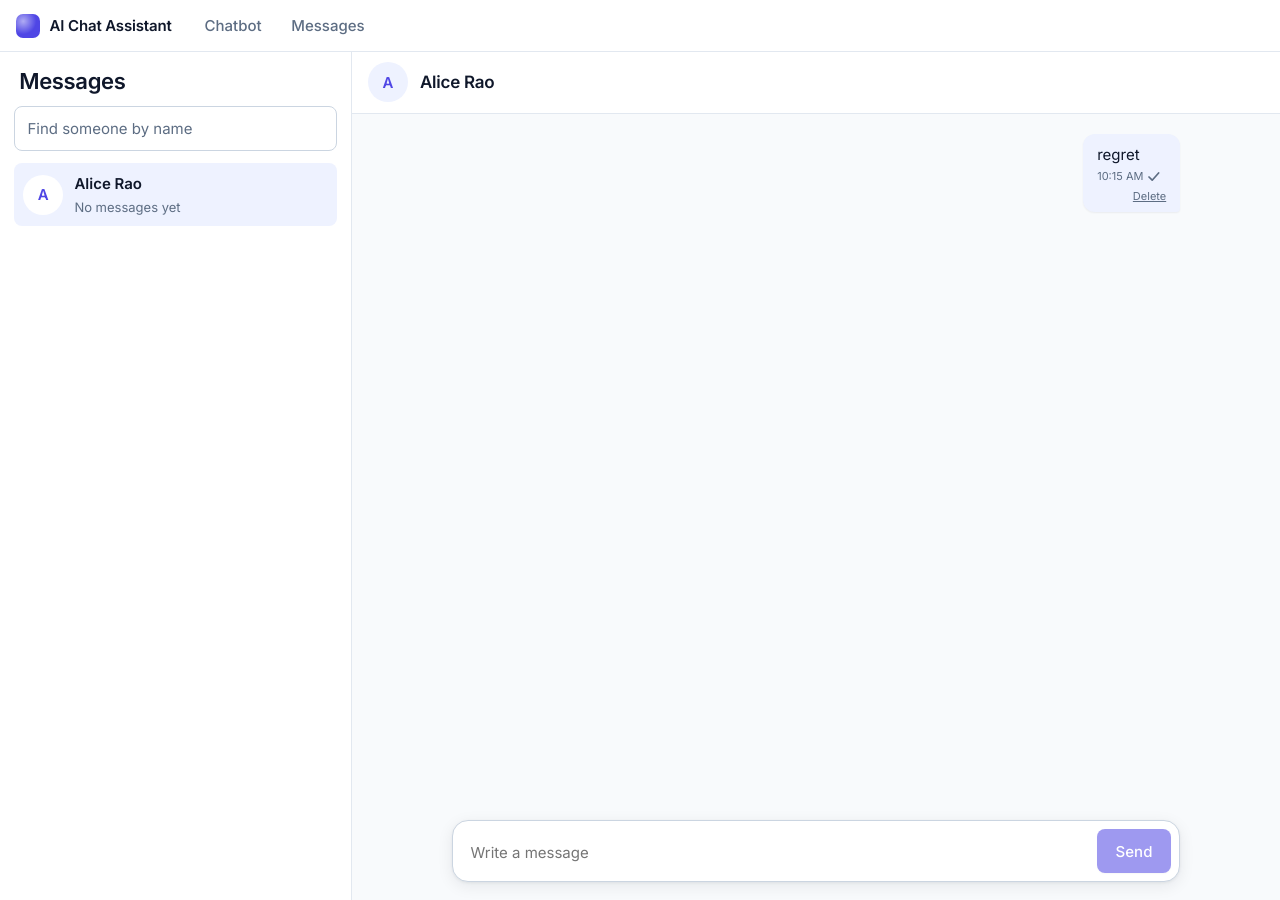
Test: MessagesComponent › confirming deletes the message and shows the placeholder with no text, no ticks and no Delete
Click the button with class "delete": (1150, 196) top-left (1133, 188), bottom-right (1166, 205)
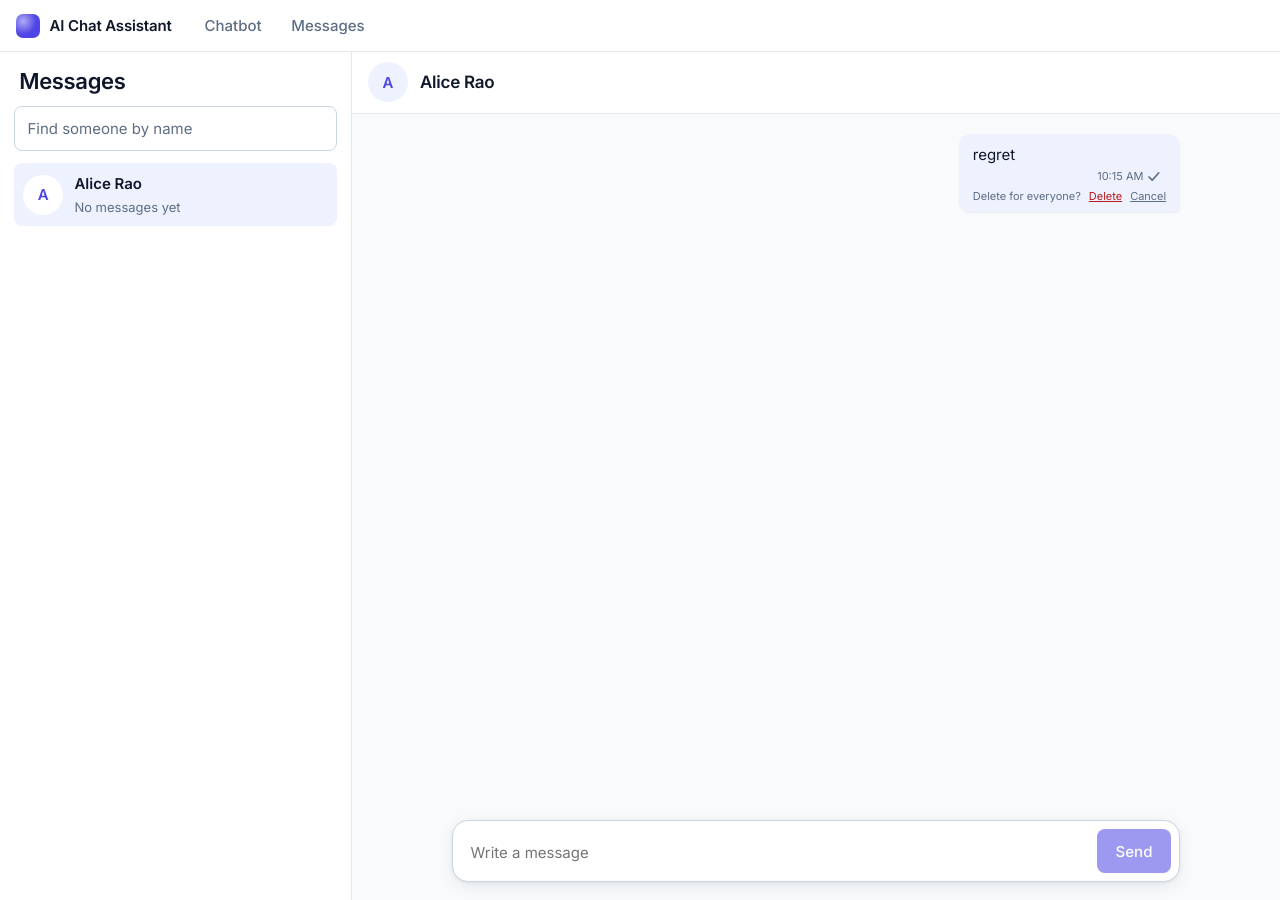
Click the button with class "danger": (1105, 196) top-left (1089, 188), bottom-right (1122, 205)
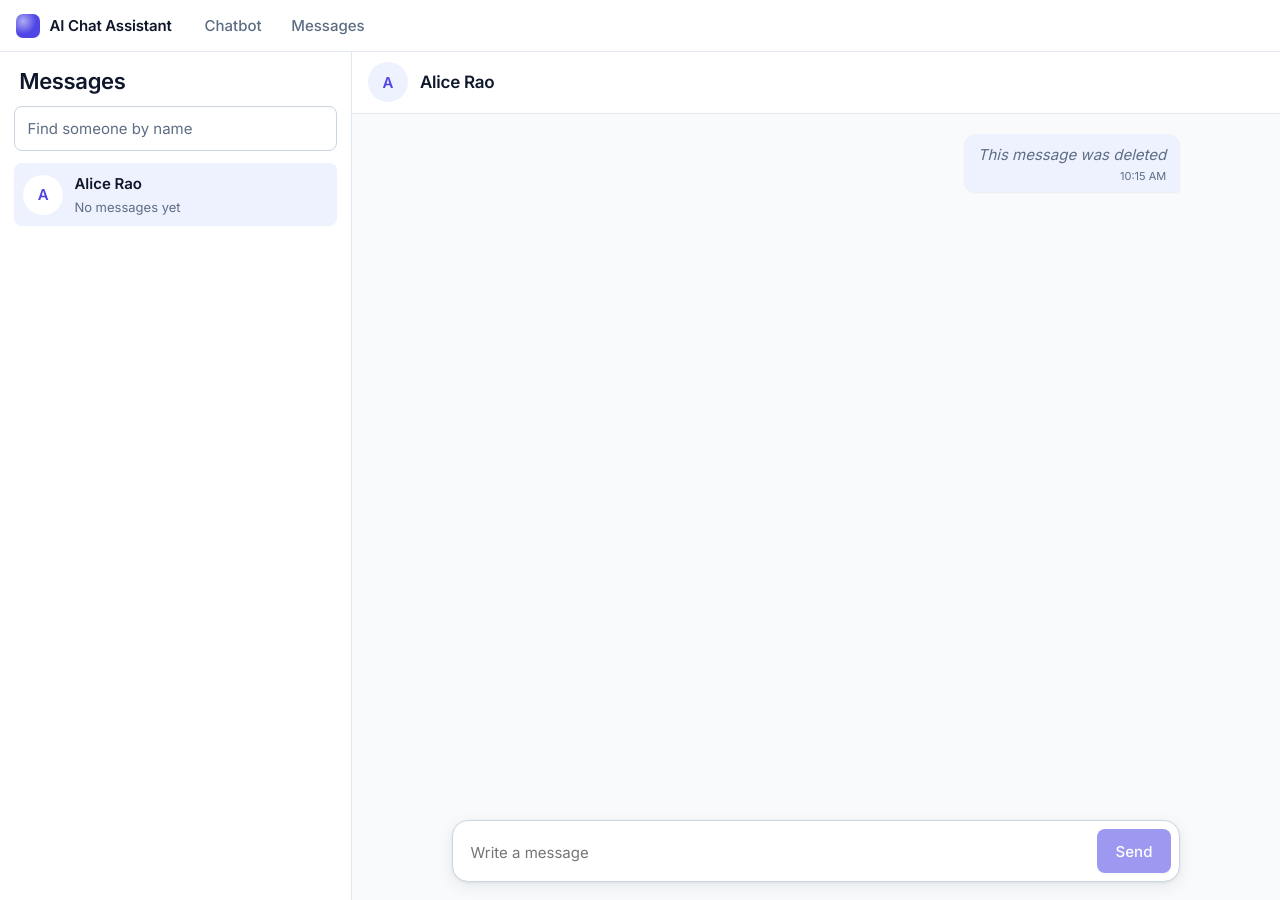
expect the element with class "bubble-row" shows "This message was deleted": met, box top-left (978, 145), bottom-right (1166, 164)
expect the text with class "bubble-row" no longer shows "regret": met
